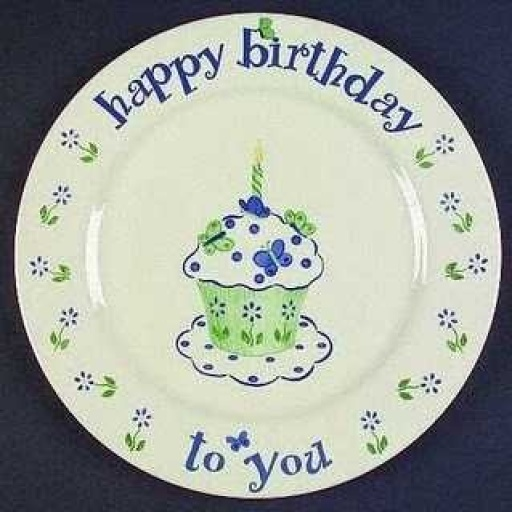piring: (19, 10, 499, 493)
